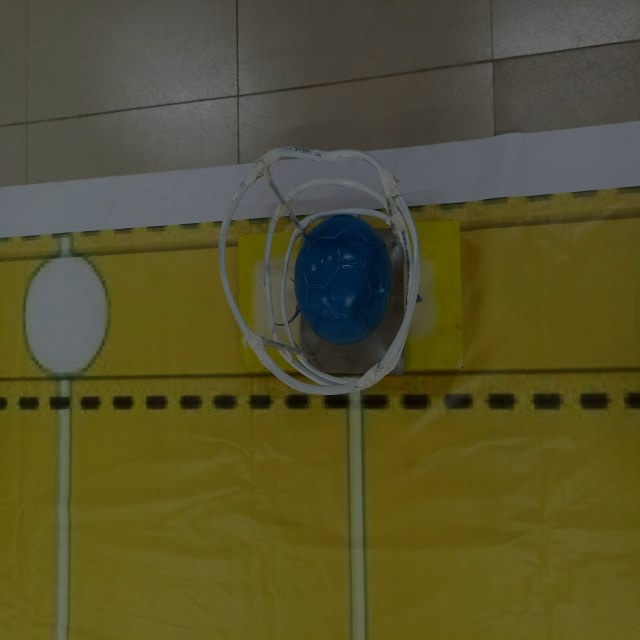blue_ball: (302, 220, 384, 340)
silo: (226, 150, 421, 386)
